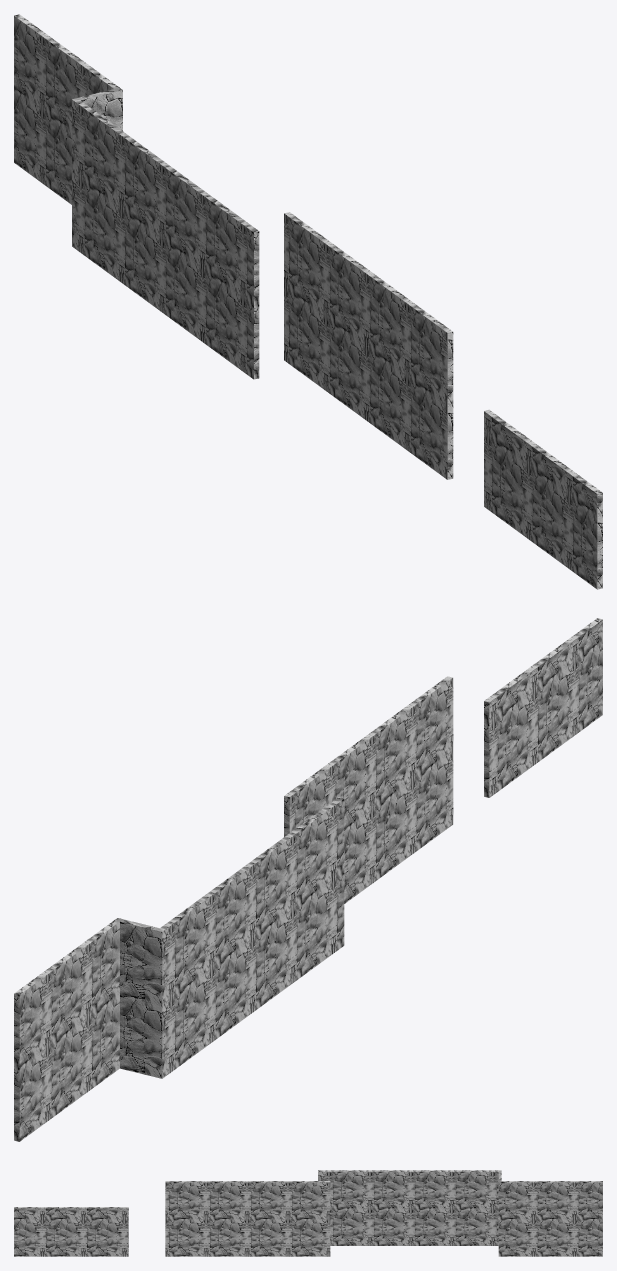
The model's file is beach_wall.FBX.
3 renders of one model, top to bottom at view 1: azimuth 30°, elevation 25°; view 2: azimuth 150°, elevation 25°; view 3: azimuth 270°, elevation 25°, orthographic. The views are drawn at different scales.
Parts seen in each view (by area): view 1: beach_wall; view 2: beach_wall; view 3: beach_wall.
Part boxes in pixels (box(x1,y1,x2,y2)): beach_wall: box(14, 14, 602, 589); beach_wall: box(14, 618, 602, 1141); beach_wall: box(14, 1170, 602, 1256).
Bounding box in the file's own units: 342 × 7193 × 1000.
